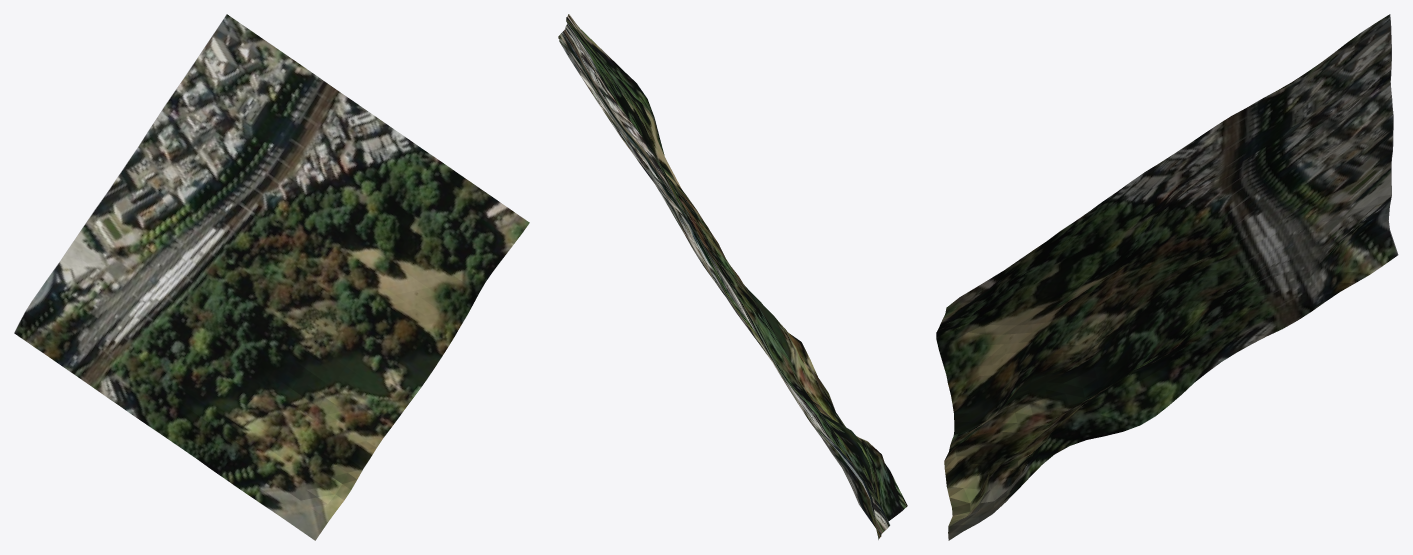
3 views of the same model, side by side, from view 1: azimuth 30°, elevation 25°; view 2: azimuth 150°, elevation 25°; view 3: azimuth 270°, elevation 25° (orthographic). The views are drawn at different scales.
Size of the model in its own units: 536 by 570 by 416.
Materials: 1 (1 with a texture image).
